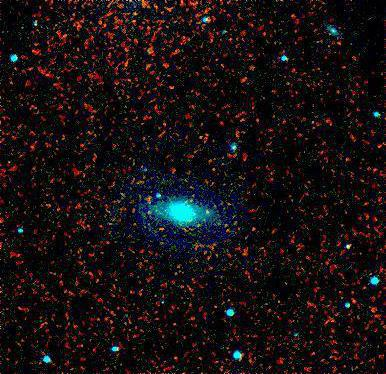star: (193, 197, 223, 227)
